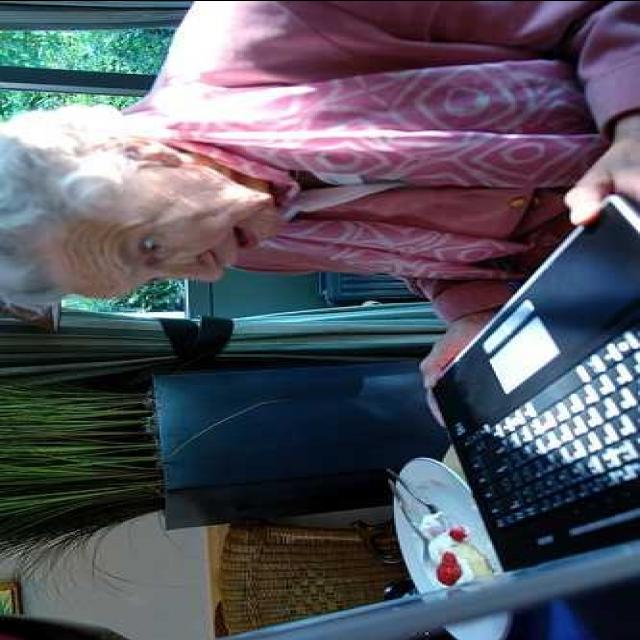laptop: (229, 192, 640, 633)
